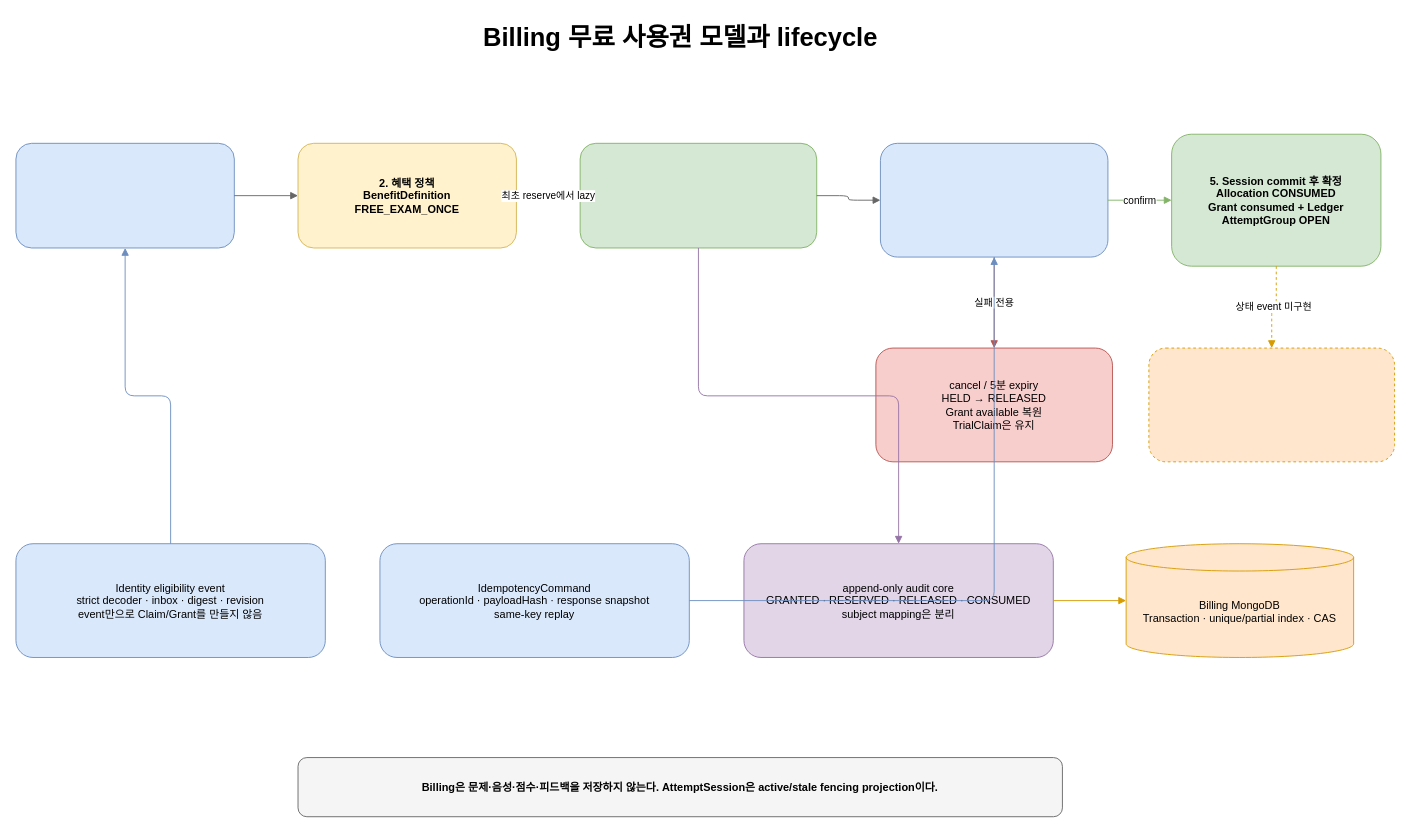
Image size: 1411x833. Some labels were removed from this diagram. The box of each missing label's shape, as (x1, y1, x2, y2) in pixels:
1. 자격 projection TrialEligibility VERIFIED / REVOKED: (15, 142, 234, 248)
3. 발급 근거·권리 TrialClaim + aliases EntitlementGrant 1 unit: (579, 142, 817, 248)
4. 임시 hold Reservation RESERVED Allocation HELD Ledger RESERVED: (880, 142, 1108, 257)
AttemptGroup lifecycle OPEN → GRADING → COMPLETED 또는 RETAKE_AVAILABLE: (1148, 347, 1395, 462)
